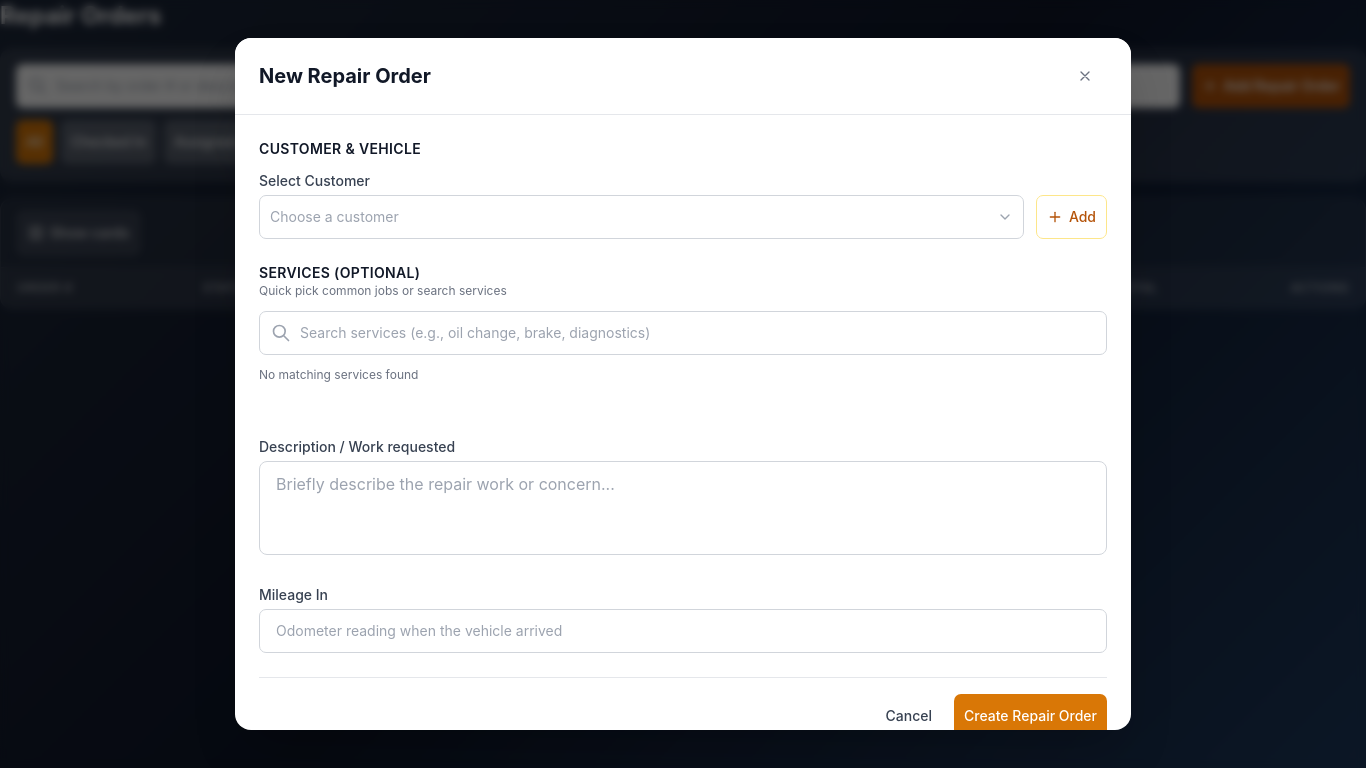
Test: RepairOrdersPage request cancellation › shows the selected company trucks as model-and-unit cards
This screenshot has width=1366, height=768.
Click the button "Choose a customer": (334,217) 259,195 -> 1024,239
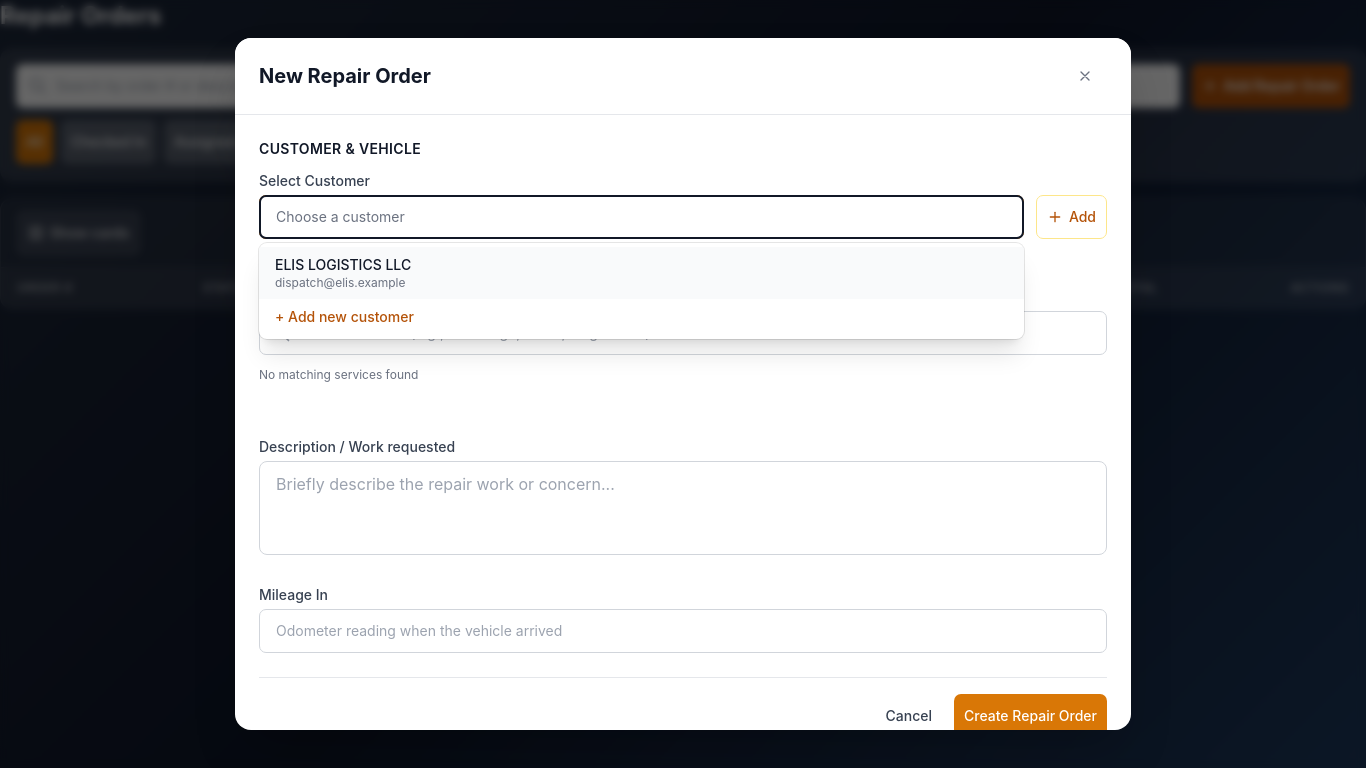
Press the mouse on the text "ELIS LOGISTICS LLC": (343,265) 275,256 -> 411,273
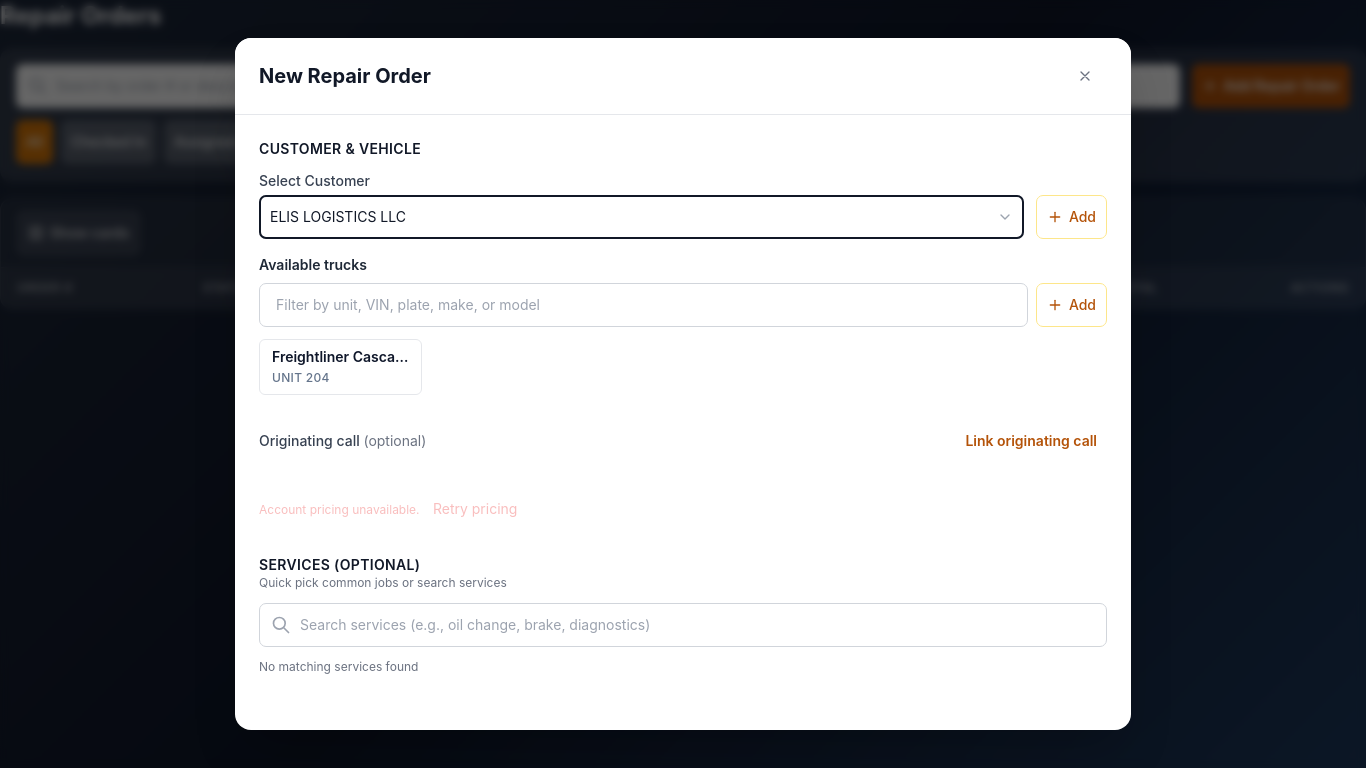
Now the heading "Available trucks" is shown, box 259,256 -> 367,273
Now the text "Unit 204" is shown, box 272,370 -> 330,385
Now the text "Freightliner Cascadia" is shown, box 272,348 -> 409,366
